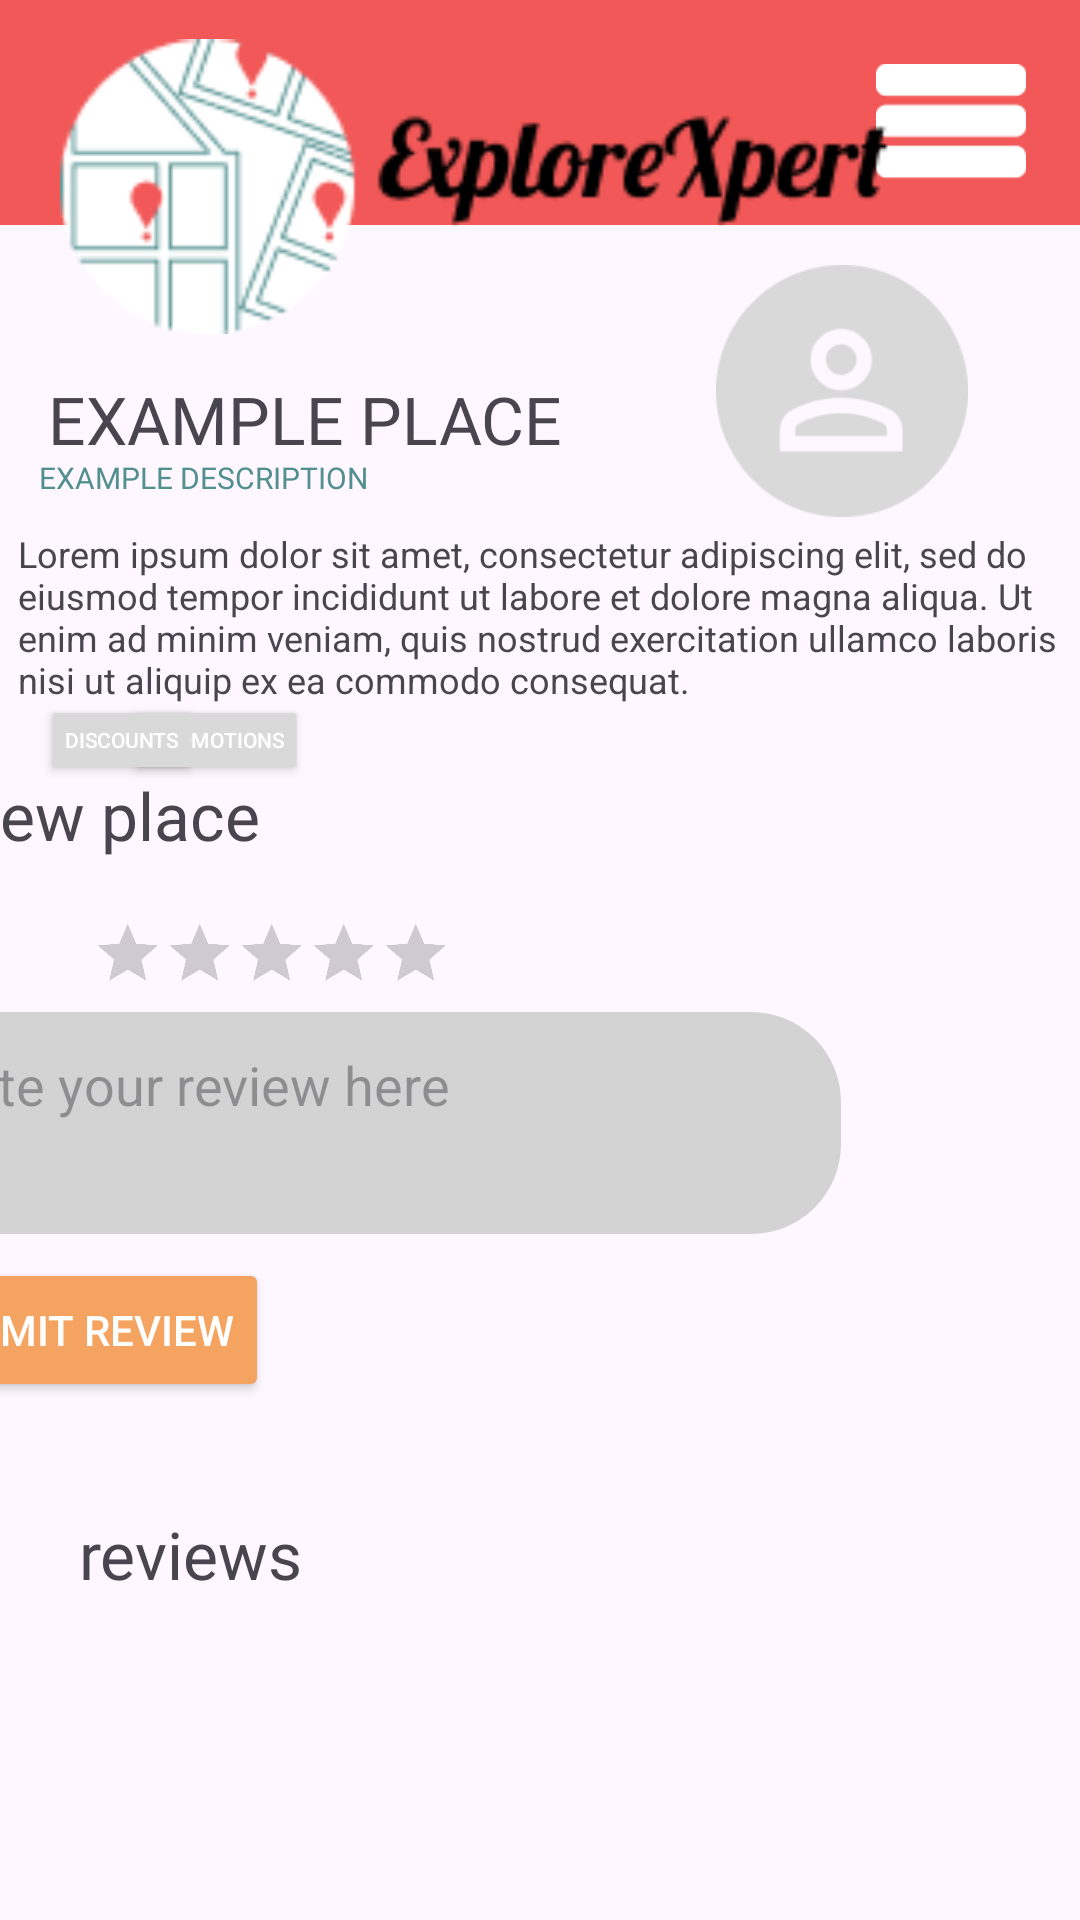

Icons on this 1080*1920 Android screen, each with its box as {"left": x1, "top": y1, "right": x2, "bottom": y2}:
Menu Button: {"left": 876, "top": 64, "right": 1026, "bottom": 196}
